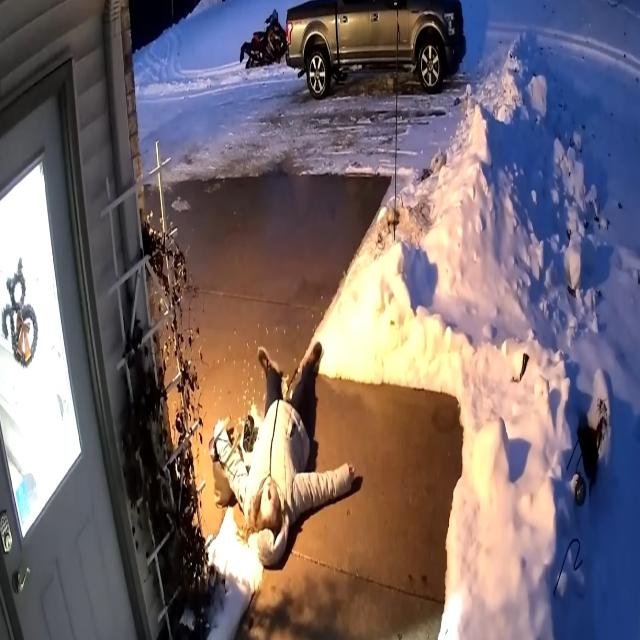fallen: (216, 343, 355, 565)
